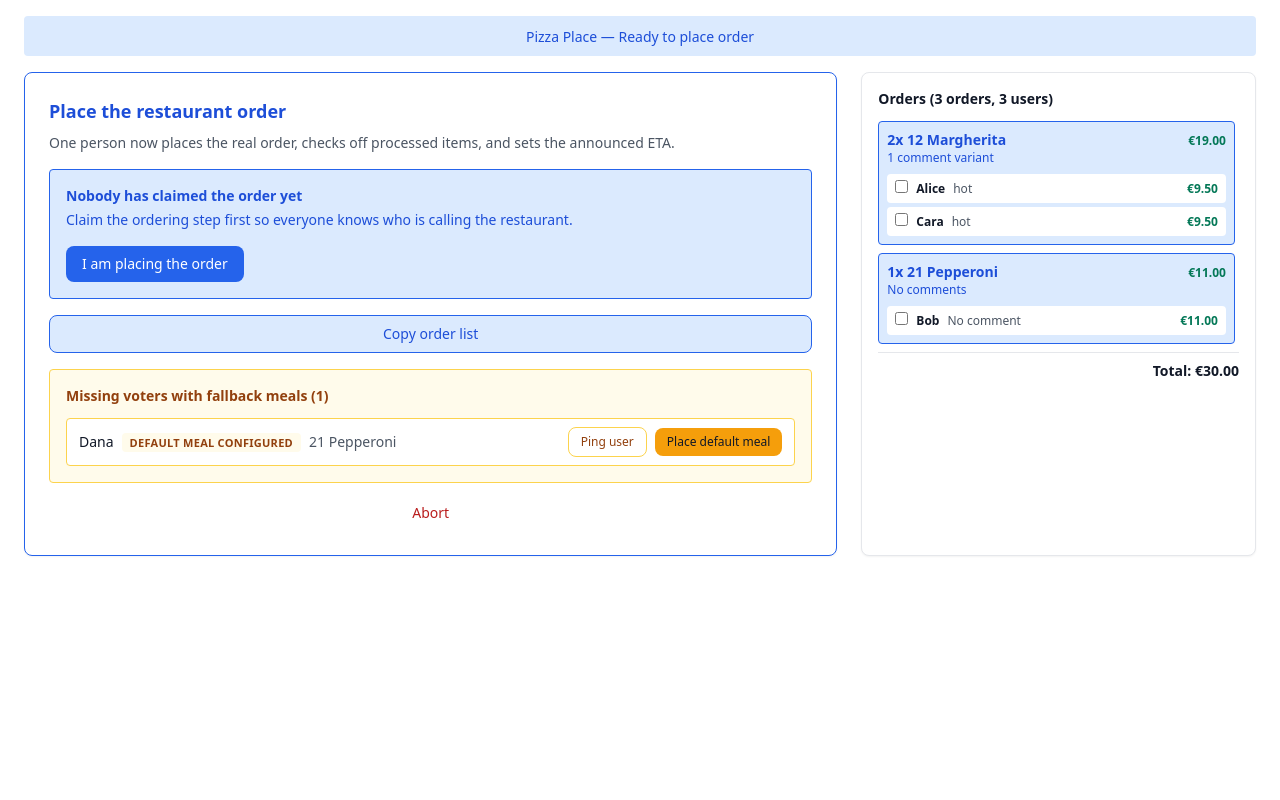
Test: FoodSelectionOrderingView › places a fallback order for an eligible missing voter
Click the button "Place default meal": (719, 442) [655,428,782,456]
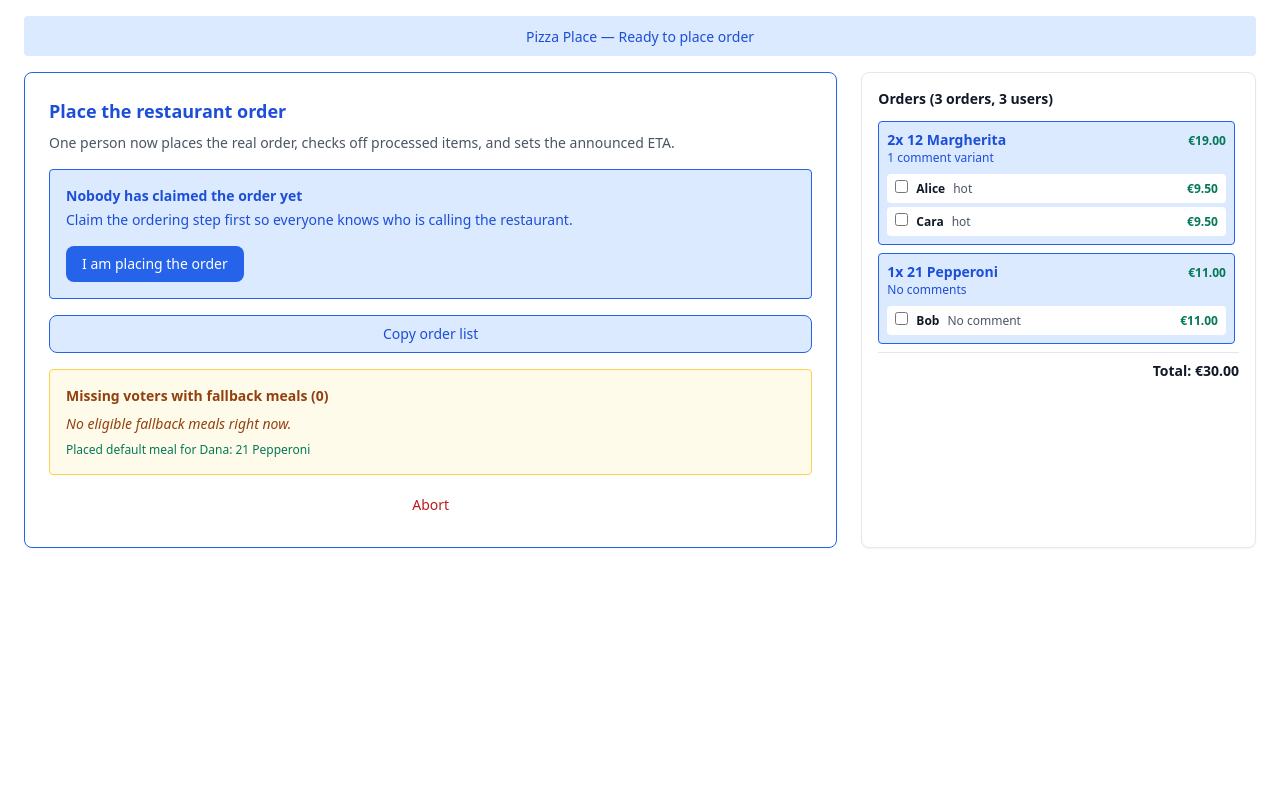
expect the text "Placed default meal for Dana: 21 Pepperoni" is shown: met, box [66,441,310,458]
